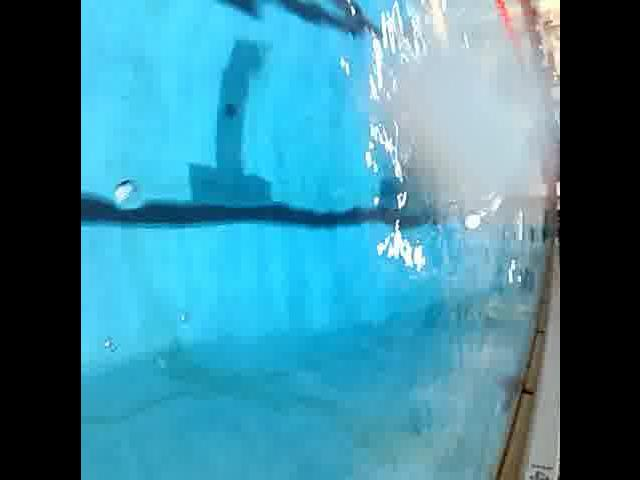Bottle: (450, 182, 516, 238)
